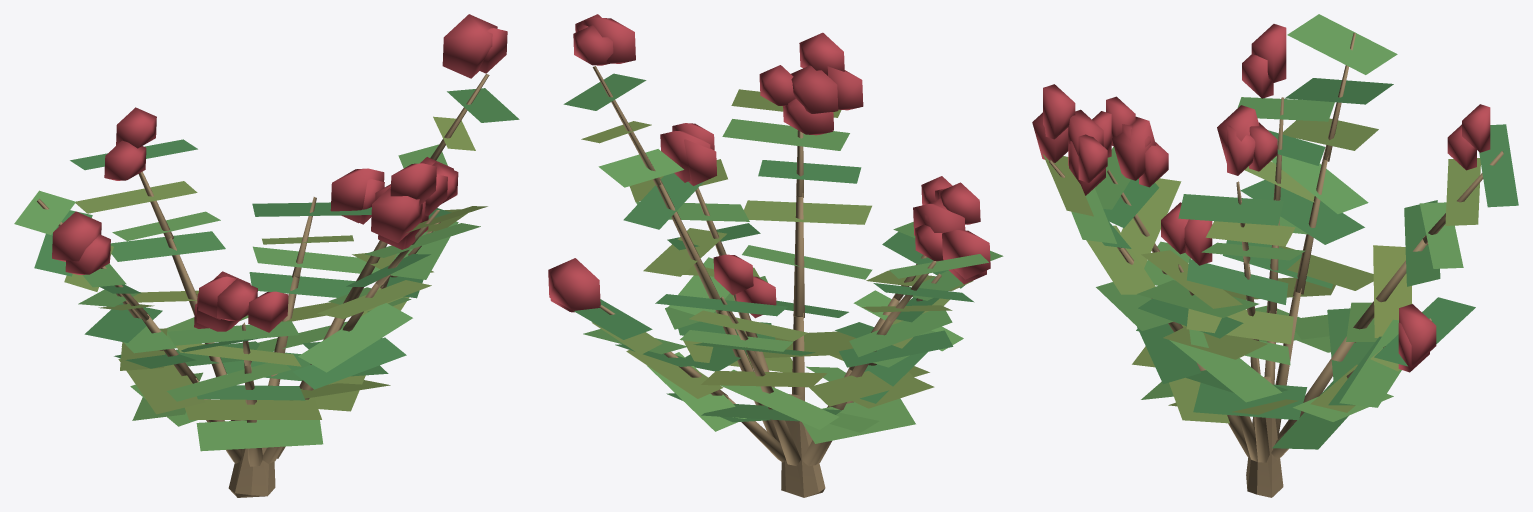
Rendered from bush_berry_far.97e154a2.glb.
The picture shows the model from 3 angles, left to right: view 1: azimuth 30°, elevation 25°; view 2: azimuth 150°, elevation 25°; view 3: azimuth 270°, elevation 25°; orthographic projection. The views are drawn at different scales.
Parts seen in each view (by area): view 1: bush_berry; view 2: bush_berry; view 3: bush_berry.
Boxes of the visible parts, x1=… form: bush_berry: x1=14, y1=14, x2=519, y2=497; bush_berry: x1=548, y1=14, x2=1003, y2=497; bush_berry: x1=1032, y1=14, x2=1518, y2=497.
Size of the model in its own units: 1.23 by 1.1 by 0.9735.
